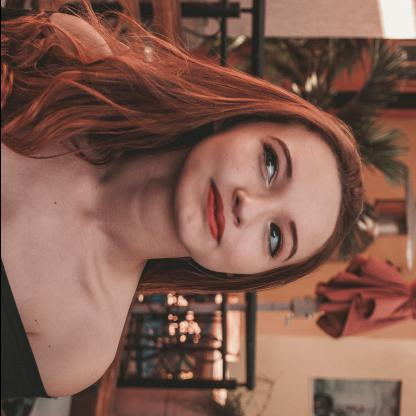Eye: (259, 142, 276, 187), (263, 221, 282, 261)
Mouth: (204, 177, 226, 245)
Nose: (232, 189, 275, 229)
